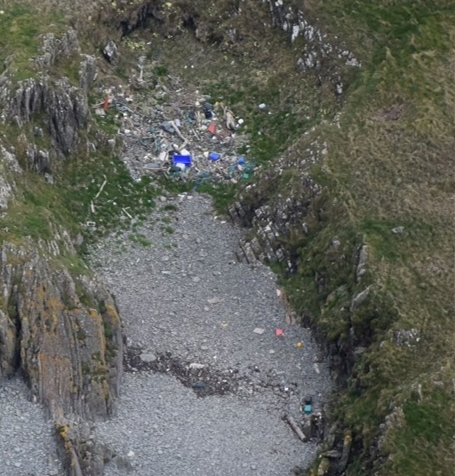scattered_barrel: (95, 91, 261, 189), (269, 324, 329, 444)
